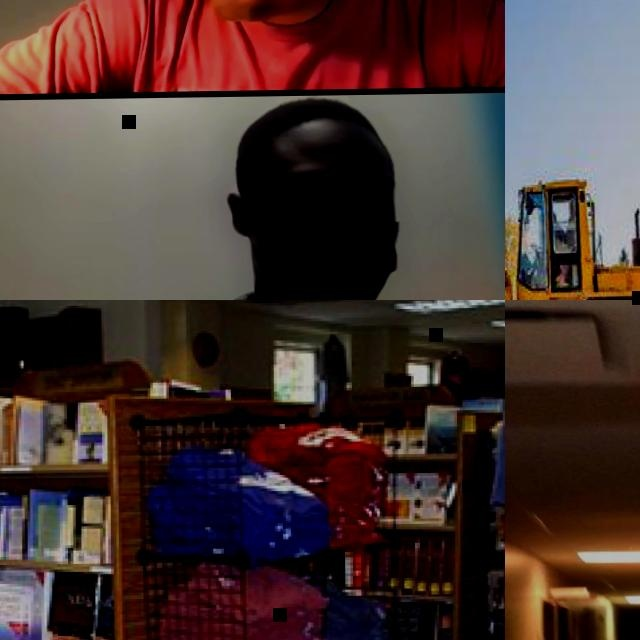NO-Hardhat: (234, 97, 396, 163)
NO-Mask: (245, 215, 405, 300), (191, 0, 324, 26)
NO-Safety Vest: (119, 0, 486, 90)
Person: (63, 94, 505, 300), (0, 0, 505, 94)
machinery: (505, 168, 640, 300)
